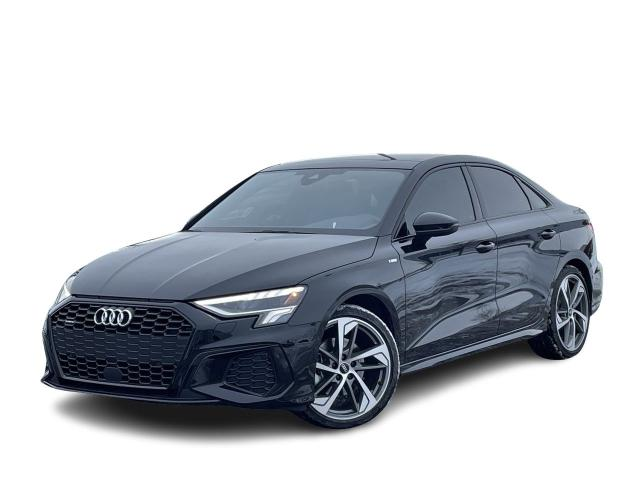audi: (38, 153, 602, 431)
